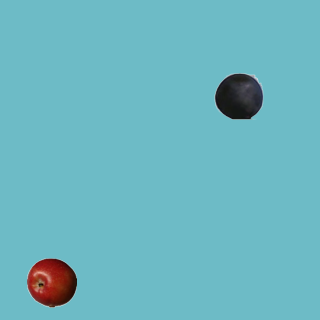Apple Braeburn: (26, 257, 76, 307)
Grape Blue: (213, 70, 263, 120)
